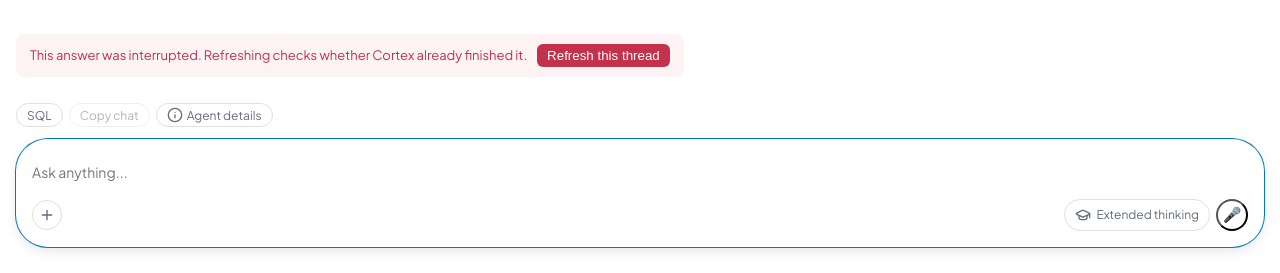
Scenario: ChatContainer streaming lifecycle (Phase 6) › wires "Refresh this thread" to re-fetch and hydrate the active thread
Click the button "Refresh this thread": (603, 56) [537, 44, 670, 67]
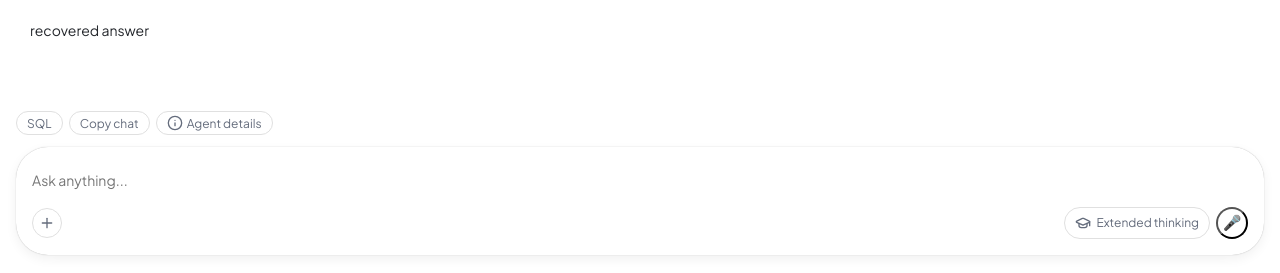
Check: the text "recovered answer" is shown, box [30, 16, 149, 44]
